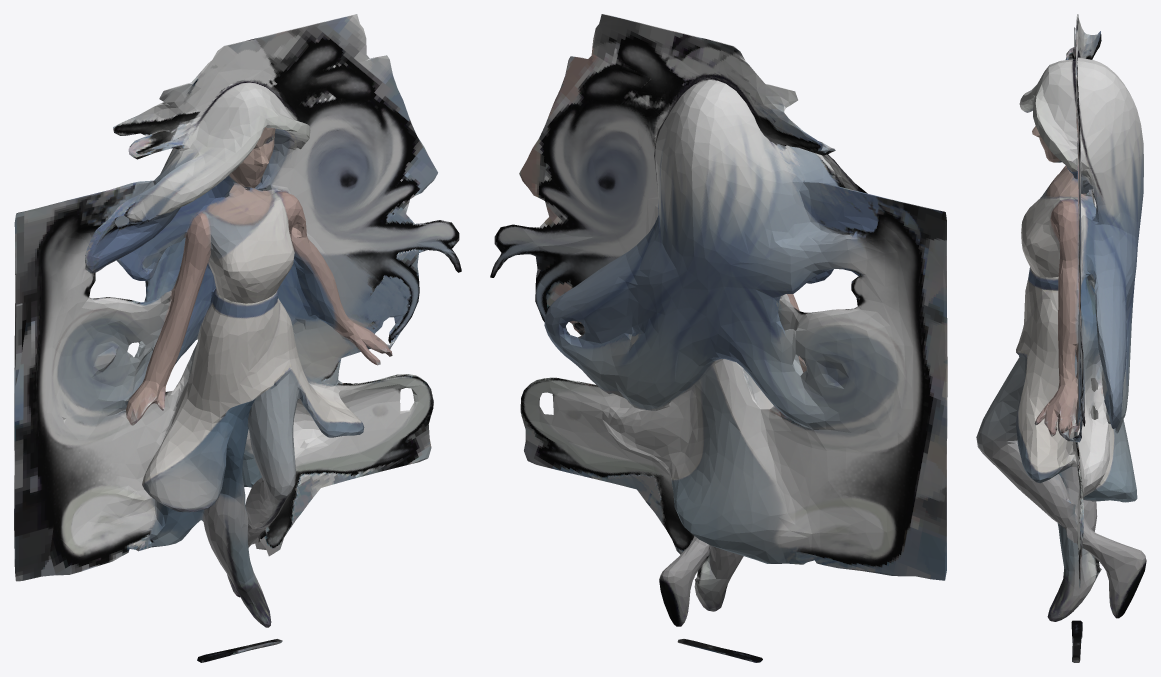
The model's file is aire.glb.
3 views of the same model, side by side, from view 1: azimuth 30°, elevation 25°; view 2: azimuth 150°, elevation 25°; view 3: azimuth 270°, elevation 25° (orthographic). The views are drawn at different scales.
Visible parts, largest first — view 1: world; view 2: world; view 3: world.
Part boxes in pixels (<box>): world: <box>14,14,461,662</box>; world: <box>490,14,947,662</box>; world: <box>976,14,1146,662</box>.
Bounding box in the file's own units: 0.7779 × 1 × 0.2484.
Materials: 1 (1 with a texture image).
